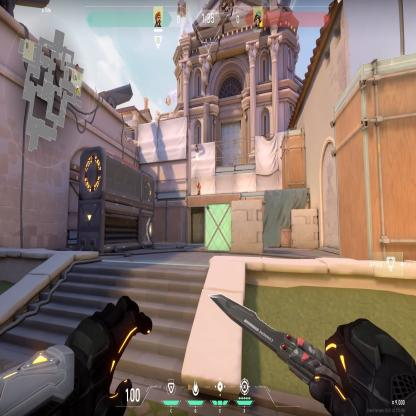enemy: (196, 180, 201, 196)
